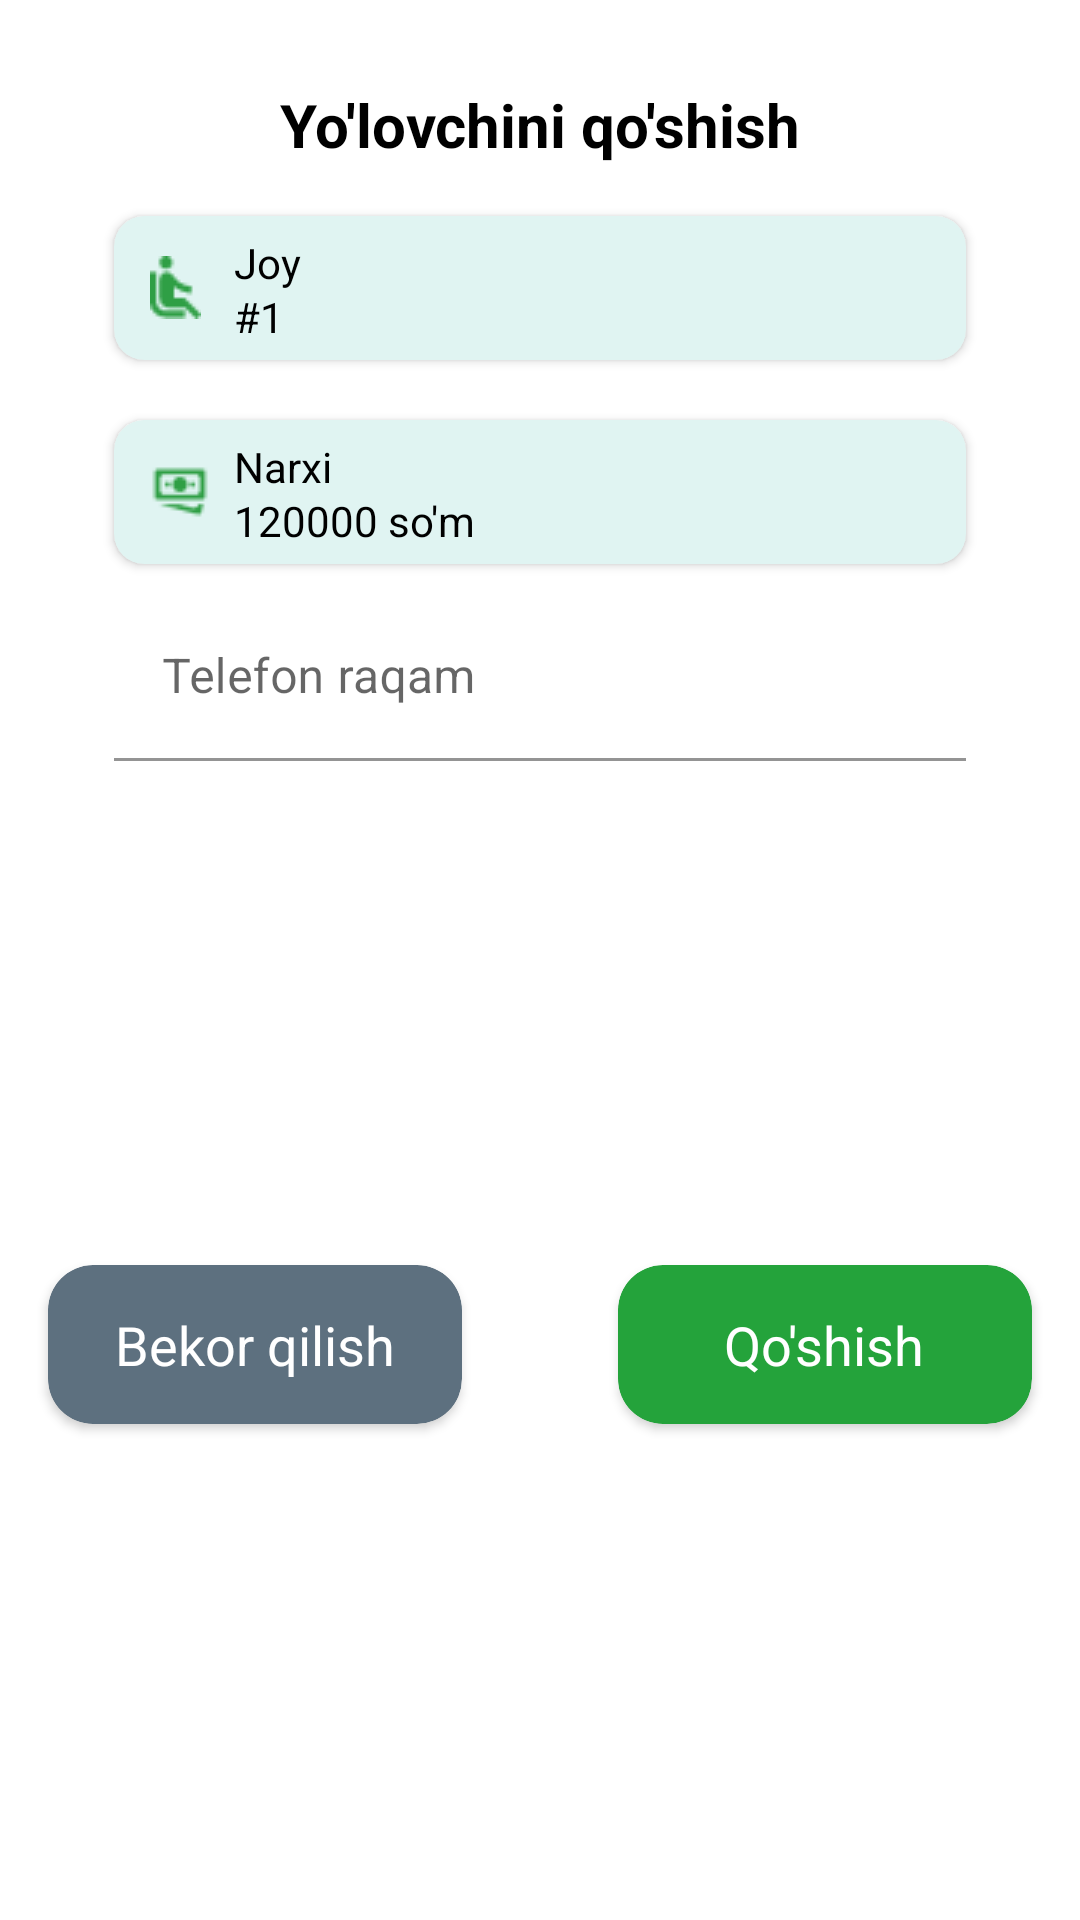

Where icons sit on this 1080px x 1920px app screen, as (left=x1, top=y1, right=x2, bottom=y2):
money: (left=153, top=467, right=207, bottom=516)
sit: (left=150, top=256, right=201, bottom=319)
